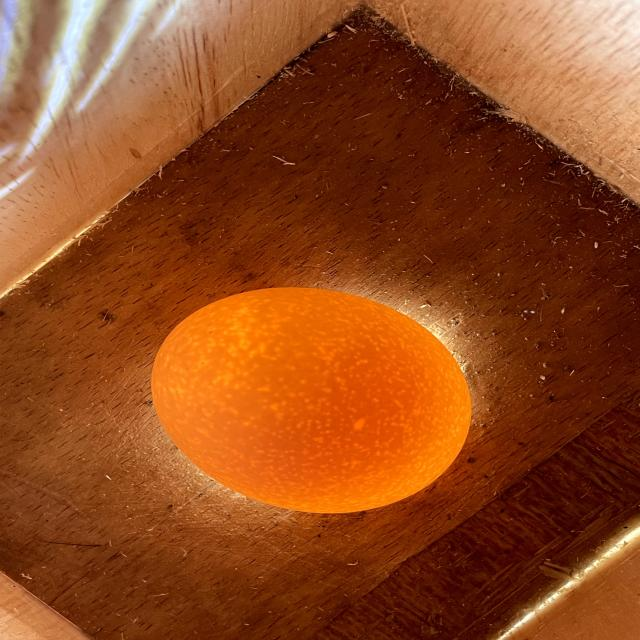infertile: (152, 288, 472, 512)
